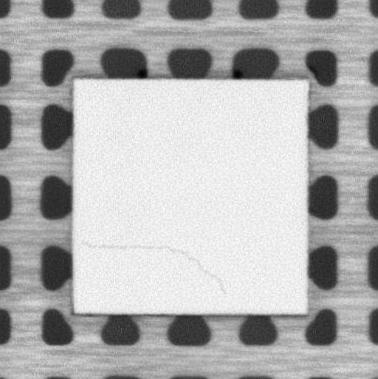DIE_CRACK: (80, 239, 227, 294)
